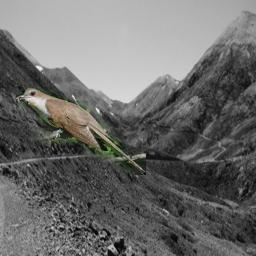Cuckoo: (16, 88, 146, 175)
